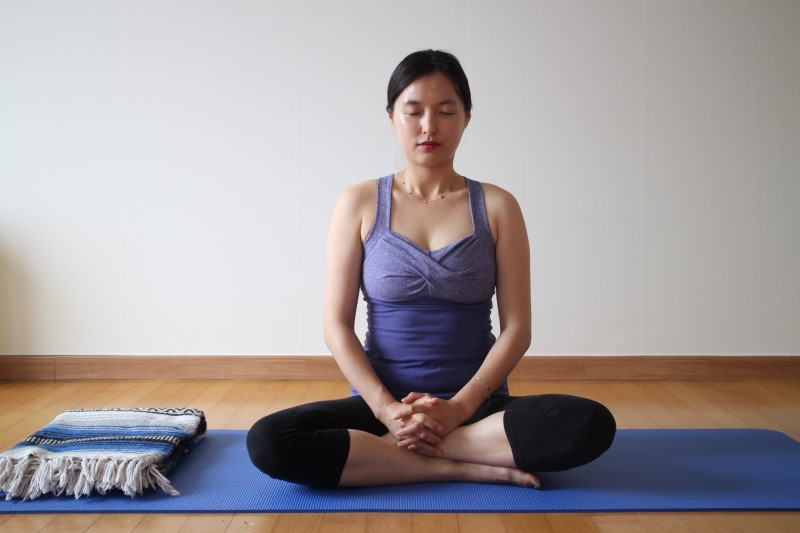hand: (380, 383, 473, 457)
